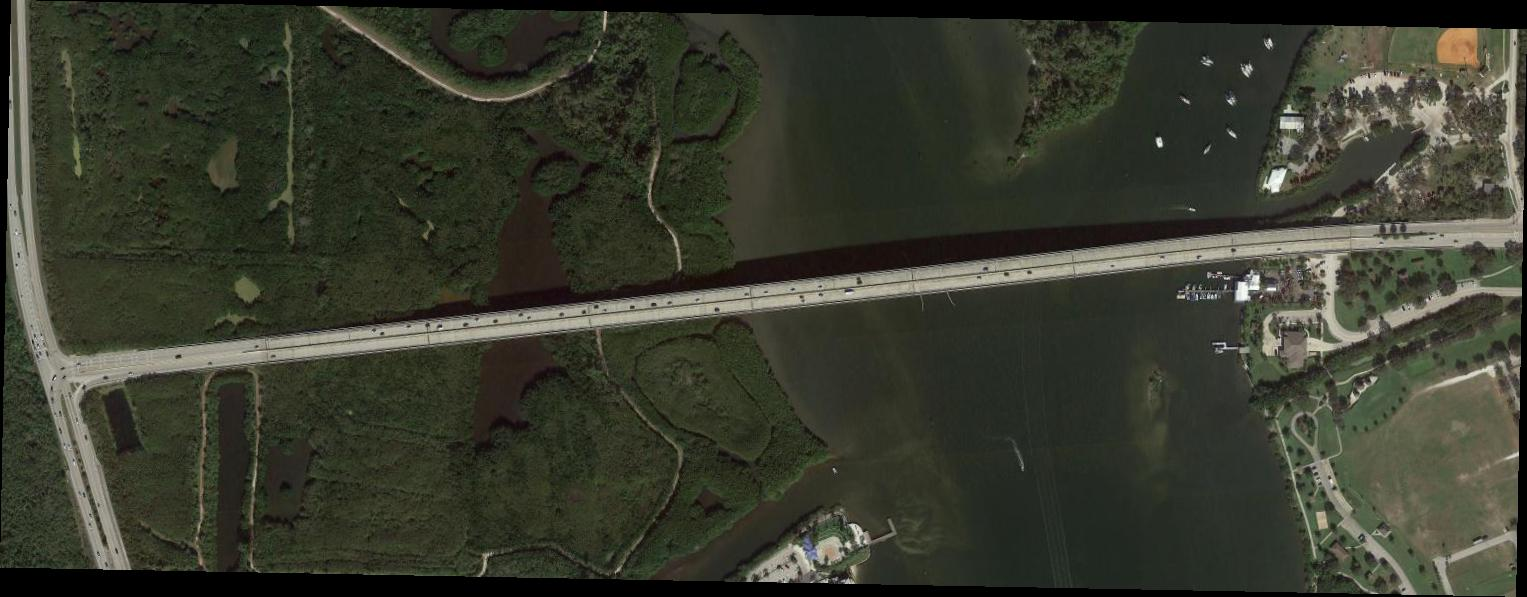harbor: (863, 517, 898, 547)
ship: (1224, 121, 1243, 143), (1179, 91, 1199, 110), (1199, 141, 1217, 159), (1236, 61, 1252, 80), (1261, 35, 1275, 52), (1244, 59, 1259, 74), (1201, 51, 1216, 65), (1198, 57, 1213, 69), (1155, 136, 1163, 148)
